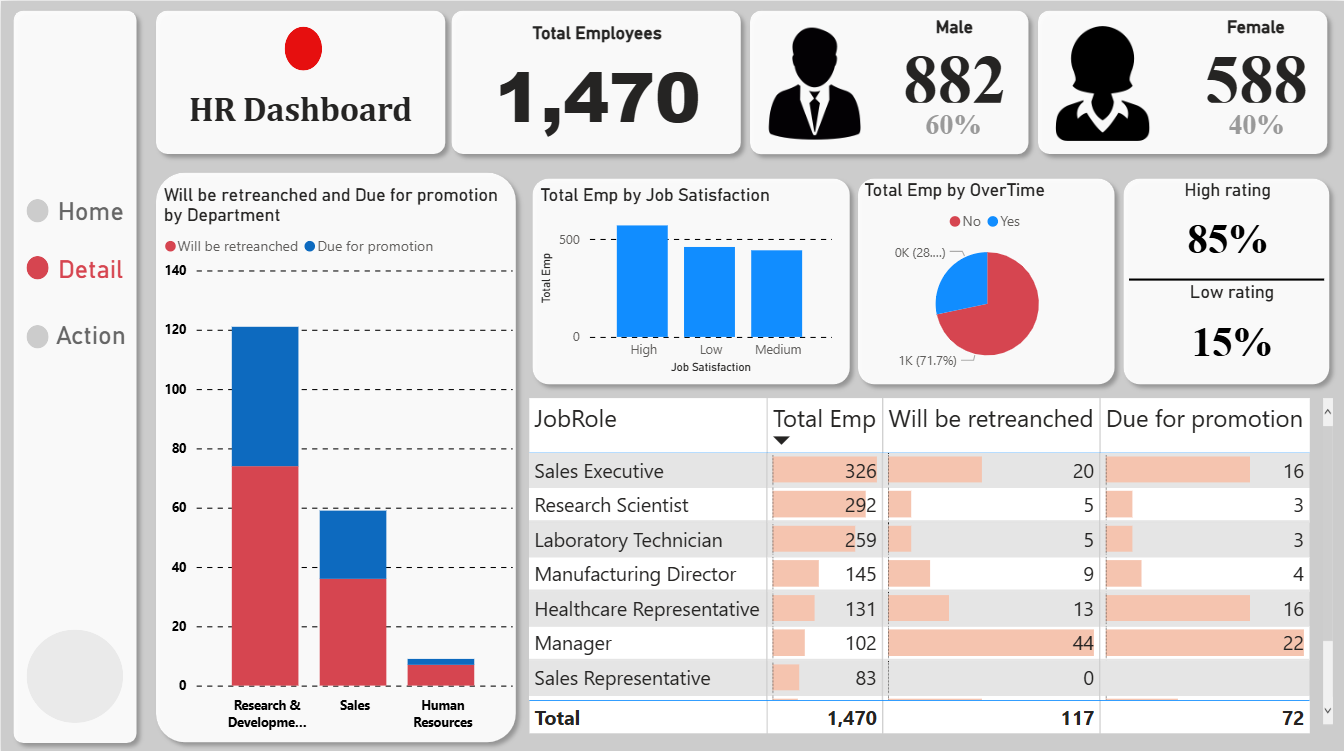

What the dashboard file says about the page in this screenshot:
{"tool":"powerbi","page":{"name":"Detail","canvas":[1280,720],"ordinal":1},"visuals":[{"type":"shape","box":[2.8,0,135.3,715.8],"z":0},{"type":"shape","box":[979.3,0,293.6,154.6],"z":1000},{"type":"shape","box":[139,0,293.6,154.6],"z":2000},{"type":"shape","box":[420.1,0,293.6,154.6],"z":3000},{"type":"shape","box":[704.5,0,283.2,155],"z":4000},{"type":"textbox","box":[157.7,78.1,256.1,53.1],"z":5000},{"type":"shape","box":[270.2,25,35.9,42.2],"z":6000},{"type":"card","title":"Total Employees","fields":{"Values":["All Measures.Total Emp"]},"box":[449.8,20.3,235.8,114],"z":7000},{"type":"card","title":"Male","fields":{"Values":["All Measures.Male"]},"box":[846.5,14.1,121.8,87.5],"z":8000},{"type":"card","title":"Male","fields":{"Values":["All Measures.% Male"]},"box":[860.6,78.1,93.7,76.5],"z":9000},{"type":"card","title":"Female","fields":{"Values":["All Measures.Female"]},"box":[1133.9,14.1,121.8,87.5],"z":10000},{"type":"card","title":"Male","fields":{"Values":["All Measures.% Female"]},"box":[1147.9,78.1,93.7,76.5],"z":11000},{"type":"image","box":[713.8,20.3,121.8,117.1],"z":12000},{"type":"image","box":[987.7,18.3,124,119.8],"z":13000},{"type":"shape","box":[139,154.6,360.8,560.7],"z":14000},{"type":"columnChart","fields":{"Category":["HR Analytics Data (2).Department"],"Y":["All Measures.Will be retreanched","All Measures.Due for promotion"]},"box":[149.4,174.7,342.4,528.4],"z":15000},{"type":"shape","box":[496.7,159.3,320.2,214],"z":16000},{"type":"shape","box":[807.5,159.3,262.4,214],"z":17000},{"type":"shape","box":[1060.5,159.3,214,214],"z":18000},{"type":"shape","box":[1074.5,93.7,185.9,342],"z":19000},{"type":"columnChart","fields":{"Category":["HR Analytics Data (2).Job Satisfaction"],"Y":["All Measures.Total Emp"]},"box":[509.2,174.9,287.4,184.3],"z":20000},{"type":"pieChart","fields":{"Category":["HR Analytics Data (2).OverTime"],"Y":["All Measures.Total Emp"]},"box":[816.8,170.2,243.6,187.4],"z":21000},{"type":"tableEx","fields":{"Values":["HR Analytics Data (2).JobRole","All Measures.Total Emp","All Measures.Will be retreanched","All Measures.Due for promotion"]},"box":[496.7,373.3,776.2,329.5],"z":22000},{"type":"card","title":"High rating","fields":{"Values":["All Measures.% High emp rating"]},"box":[1104.2,170.2,128.1,89],"z":23000},{"type":"card","title":"Low rating","fields":{"Values":["All Measures.% Low emprating"]},"box":[1102.6,267.1,139,92.1],"z":24000},{"type":"shape","box":[24.4,308.1,21.1,22.4],"z":25000},{"type":"actionButton","title":"Detail","box":[15.5,240.9,139.5,55],"z":26000},{"type":"shape","box":[24.4,243.5,21.1,22.4],"z":27000},{"type":"actionButton","title":"Action","box":[15.5,304.3,139.5,57.8],"z":28000},{"type":"shape","box":[24.4,188.1,21.1,22.4],"z":29000},{"type":"actionButton","title":"Home","box":[15.2,185.5,139.8,54.1],"z":30000},{"type":"shape","box":[25,598.2,92.1,89],"z":31000}]}

Visuals, with their boxes in screenshot pixels (x1, y1, x2, y2), scaled from the page's 1280x720 canvas onto the 1344x751 screenshot:
shape: (3, 0, 145, 747)
shape: (1028, 0, 1337, 161)
shape: (146, 0, 454, 161)
shape: (441, 0, 749, 161)
shape: (740, 0, 1037, 162)
textbox: (166, 81, 434, 137)
shape: (284, 26, 321, 70)
"Total Employees" card: (472, 21, 720, 140)
"Male" card: (889, 15, 1017, 106)
"Male" card: (904, 81, 1002, 161)
"Female" card: (1191, 15, 1318, 106)
"Male" card: (1205, 81, 1304, 161)
image: (749, 21, 877, 143)
image: (1037, 19, 1167, 144)
shape: (146, 161, 525, 746)
columnChart - HR Analytics Data (2).Department x All Measures.Will be retreanched: (157, 182, 516, 733)
shape: (522, 166, 858, 389)
shape: (848, 166, 1123, 389)
shape: (1114, 166, 1338, 389)
shape: (1128, 98, 1323, 454)
columnChart - HR Analytics Data (2).Job Satisfaction x All Measures.Total Emp: (535, 182, 836, 375)
pieChart - HR Analytics Data (2).OverTime x All Measures.Total Emp: (858, 178, 1113, 373)
tableEx - HR Analytics Data (2).JobRole x All Measures.Total Emp: (522, 389, 1337, 733)
"High rating" card: (1159, 178, 1294, 270)
"Low rating" card: (1158, 279, 1304, 375)
shape: (26, 321, 48, 345)
"Detail" actionButton: (16, 251, 163, 309)
shape: (26, 254, 48, 277)
"Action" actionButton: (16, 317, 163, 378)
shape: (26, 196, 48, 220)
"Home" actionButton: (16, 193, 163, 250)
shape: (26, 624, 123, 717)
